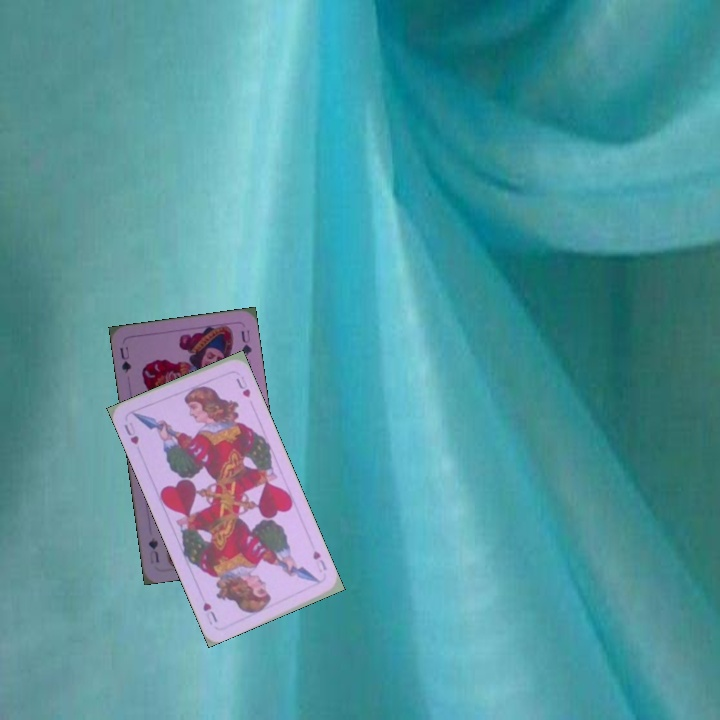GU: (116, 343, 134, 375)
HU: (120, 418, 141, 447), (309, 547, 329, 573)
